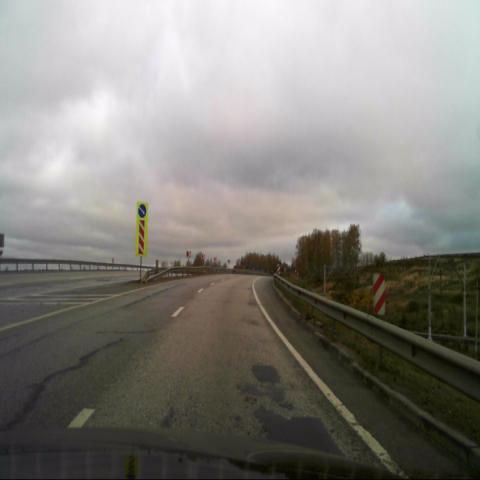4_2_1: (137, 202, 148, 219)
